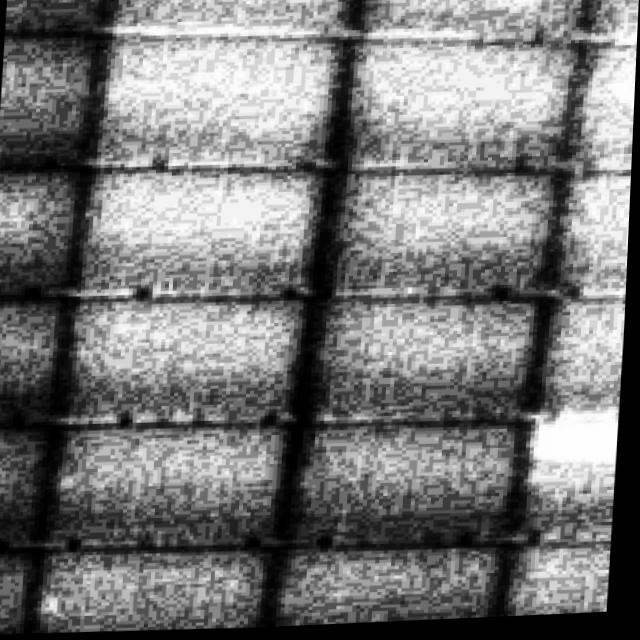PV-modules: (80, 25, 351, 187), (71, 155, 328, 313), (281, 399, 538, 555), (313, 154, 557, 316), (40, 411, 293, 564), (55, 284, 309, 433), (296, 283, 549, 431), (32, 539, 284, 638), (350, 41, 562, 150), (272, 538, 508, 630), (0, 17, 109, 172), (0, 148, 97, 297), (114, 0, 377, 48), (0, 286, 74, 427), (0, 407, 60, 545), (0, 539, 45, 635)
